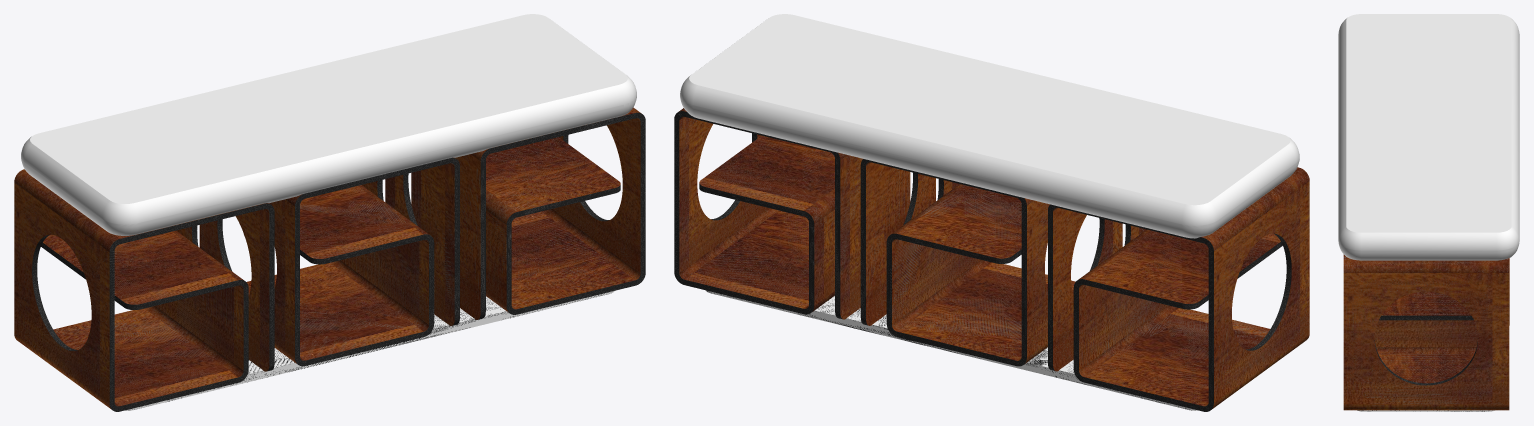
The picture shows the model from 3 angles, left to right: view 1: azimuth 30°, elevation 25°; view 2: azimuth 150°, elevation 25°; view 3: azimuth 270°, elevation 25°; orthographic projection. The views are drawn at different scales.
Visible parts, largest first — view 1: mesh1_mesh1-geometry, mesh2_mesh2-geometry, mesh3_mesh3-geometry; view 2: mesh1_mesh1-geometry, mesh2_mesh2-geometry, mesh3_mesh3-geometry; view 3: mesh2_mesh2-geometry, mesh1_mesh1-geometry, mesh3_mesh3-geometry.
Boxes of the visible parts, x1,y1,x2,y2 form: mesh1_mesh1-geometry: (14,107,645,411); mesh2_mesh2-geometry: (21,14,636,235); mesh3_mesh3-geometry: (125,291,614,410); mesh1_mesh1-geometry: (674,108,1309,411); mesh2_mesh2-geometry: (680,14,1299,238); mesh3_mesh3-geometry: (706,290,1198,410); mesh2_mesh2-geometry: (1338,14,1519,260); mesh1_mesh1-geometry: (1343,254,1509,410); mesh3_mesh3-geometry: (1357,410,1494,411).
Size of the model in its own units: 0.8901 by 0.3435 by 0.2996.
